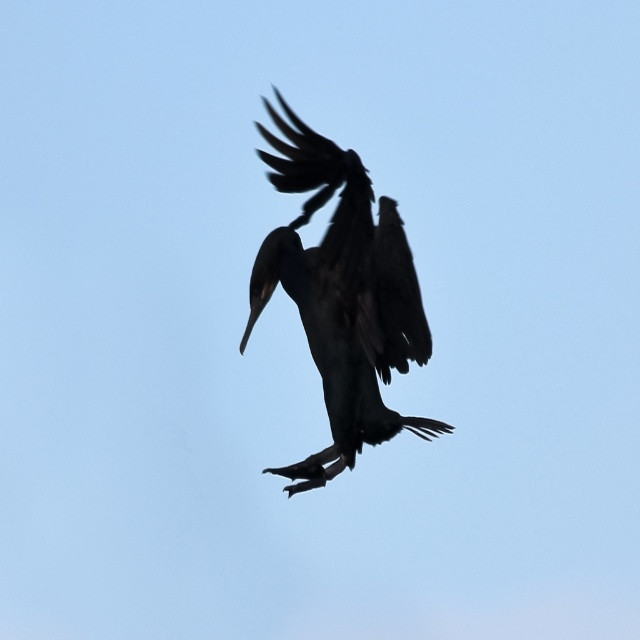Raven: (235, 129, 456, 494)
